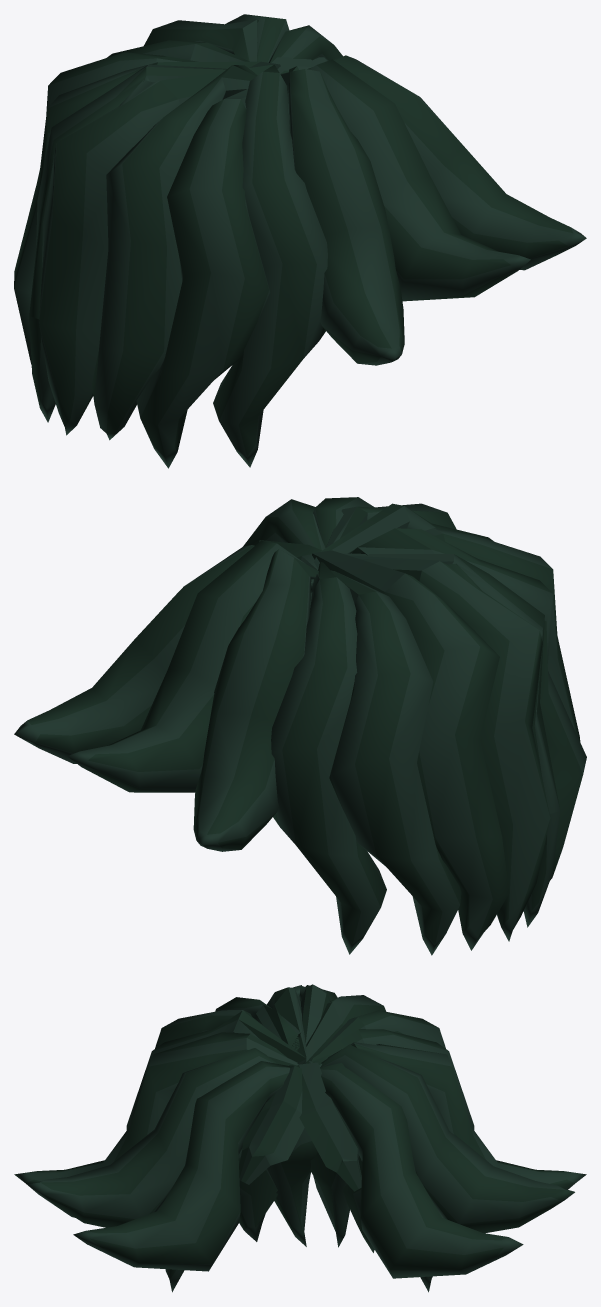
File: Wig.fbx
3 views of the same model, one above another, from view 1: azimuth 30°, elevation 25°; view 2: azimuth 150°, elevation 25°; view 3: azimuth 270°, elevation 25° (orthographic). The views are drawn at different scales.
Parts seen in each view (by area): view 1: pCube8; view 2: pCube8; view 3: pCube8.
Part boxes in pixels (x1=…): pCube8: x1=14, y1=14, x2=586, y2=468; pCube8: x1=14, y1=497, x2=586, y2=955; pCube8: x1=14, y1=984, x2=586, y2=1292.
Bounding box in the file's own units: 3.88 × 3.13 × 5.34.
